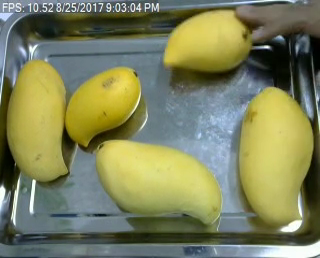Mango: (90, 139, 229, 226), (234, 85, 314, 222), (5, 58, 71, 184), (62, 62, 149, 149), (155, 6, 261, 75)
